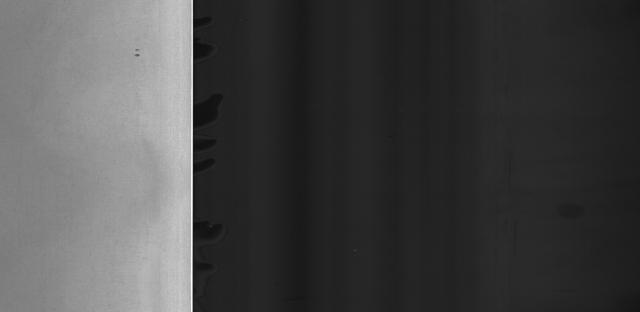inclusion: (128, 41, 145, 61)
